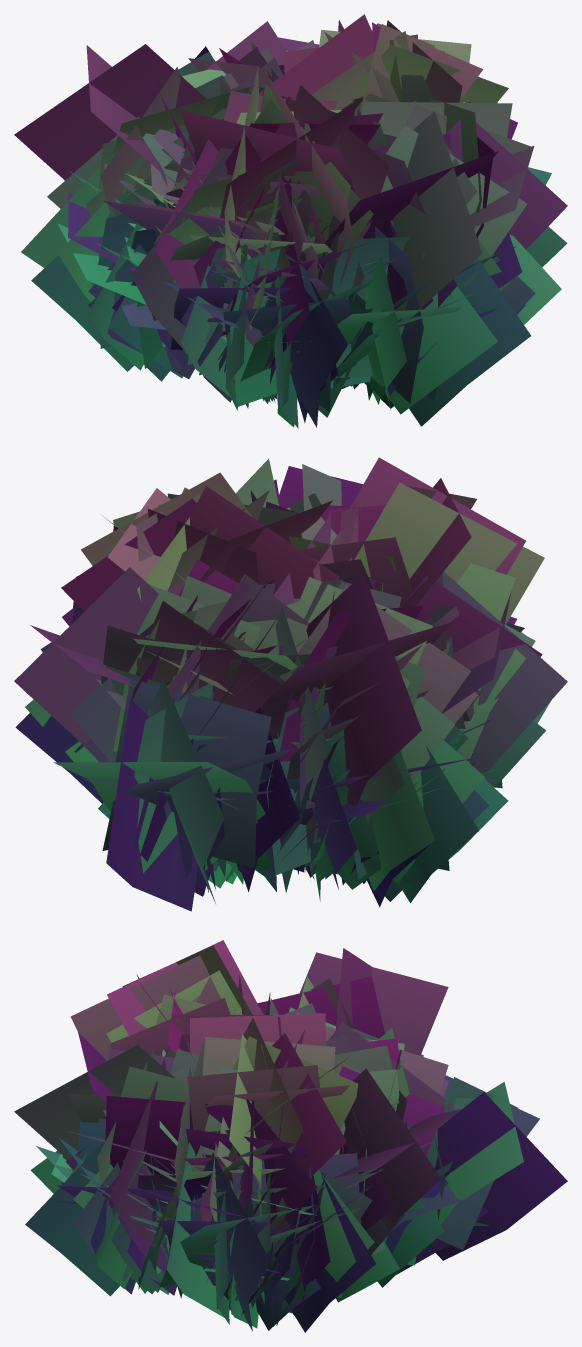
File: shrubs_oriental.glb
3 renders of one model, top to bottom at view 1: azimuth 30°, elevation 25°; view 2: azimuth 150°, elevation 25°; view 3: azimuth 270°, elevation 25°, orthographic. The views are drawn at different scales.
Visible parts, largest first — view 1: oleander_mature_12_LOD0, oleander_mature_06_LOD0, tamarisk_mature_11_LOD0, oleander_mature_09_LOD0, tamarisk_mature_12_LOD0, tamarisk_mature_02_LOD0, oleander_mature_03_LOD0, tamarisk_mature_09_LOD0, tamarisk_mature_05_LOD0, tamarisk_mature_10_LOD0, oleander_mature_08_LOD0, tamarisk_mature_07_LOD0 (+3 smaller); view 2: tamarisk_mature_02_LOD0, oleander_mature_09_LOD0, oleander_mature_06_LOD0, oleander_mature_12_LOD0, oleander_mature_03_LOD0, tamarisk_mature_12_LOD0, tamarisk_mature_11_LOD0, tamarisk_mature_09_LOD0, tamarisk_mature_05_LOD0, tamarisk_mature_10_LOD0, oleander_mature_08_LOD0; view 3: oleander_mature_09_LOD0, oleander_mature_12_LOD0, tamarisk_mature_02_LOD0, oleander_mature_06_LOD0, tamarisk_mature_12_LOD0, tamarisk_mature_10_LOD0, tamarisk_mature_11_LOD0, tamarisk_mature_09_LOD0, tamarisk_mature_08_LOD0, oleander_mature_03_LOD0, tamarisk_mature_05_LOD0, juniper_mature_05_LOD0 (+4 smaller).
Part boxes in pixels (x1=…): oleander_mature_12_LOD0: x1=153, y1=20, x2=527, y2=328; oleander_mature_06_LOD0: x1=14, y1=44, x2=517, y2=284; tamarisk_mature_11_LOD0: x1=31, y1=41, x2=497, y2=414; oleander_mature_09_LOD0: x1=111, y1=14, x2=567, y2=271; tamarisk_mature_12_LOD0: x1=121, y1=167, x2=561, y2=428; tamarisk_mature_02_LOD0: x1=47, y1=46, x2=567, y2=426; oleander_mature_03_LOD0: x1=131, y1=21, x2=411, y2=321; tamarisk_mature_09_LOD0: x1=21, y1=166, x2=457, y2=307; tamarisk_mature_05_LOD0: x1=164, y1=238, x2=509, y2=410; tamarisk_mature_10_LOD0: x1=89, y1=210, x2=370, y2=381; oleander_mature_08_LOD0: x1=190, y1=176, x2=332, y2=330; tamarisk_mature_07_LOD0: x1=107, y1=302, x2=270, y2=402; tamarisk_mature_02_LOD0: x1=53, y1=571, x2=567, y2=911; oleander_mature_09_LOD0: x1=14, y1=458, x2=459, y2=813; oleander_mature_06_LOD0: x1=62, y1=457, x2=525, y2=823; oleander_mature_12_LOD0: x1=61, y1=464, x2=544, y2=718; oleander_mature_03_LOD0: x1=147, y1=559, x2=542, y2=720; tamarisk_mature_12_LOD0: x1=40, y1=642, x2=502, y2=901; tamarisk_mature_11_LOD0: x1=15, y1=576, x2=508, y2=902; tamarisk_mature_09_LOD0: x1=98, y1=625, x2=526, y2=892; tamarisk_mature_05_LOD0: x1=196, y1=698, x2=550, y2=892; tamarisk_mature_10_LOD0: x1=25, y1=601, x2=516, y2=907; oleander_mature_08_LOD0: x1=134, y1=632, x2=526, y2=718; oleander_mature_09_LOD0: x1=65, y1=992, x2=463, y2=1247; oleander_mature_12_LOD0: x1=14, y1=940, x2=452, y2=1188; tamarisk_mature_02_LOD0: x1=25, y1=1075, x2=567, y2=1317; oleander_mature_06_LOD0: x1=70, y1=948, x2=448, y2=1224; tamarisk_mature_12_LOD0: x1=57, y1=1149, x2=387, y2=1331; tamarisk_mature_10_LOD0: x1=117, y1=1153, x2=488, y2=1308; tamarisk_mature_11_LOD0: x1=30, y1=1045, x2=448, y2=1332; tamarisk_mature_09_LOD0: x1=65, y1=1133, x2=448, y2=1303; tamarisk_mature_08_LOD0: x1=195, y1=1228, x2=320, y2=1330; oleander_mature_03_LOD0: x1=217, y1=1026, x2=448, y2=1174; tamarisk_mature_05_LOD0: x1=73, y1=1150, x2=316, y2=1273; juniper_mature_05_LOD0: x1=335, y1=1241, x2=399, y2=1302.
Size of what is drawn, in the model's own units: 4.43 by 3.32 by 5.26.
